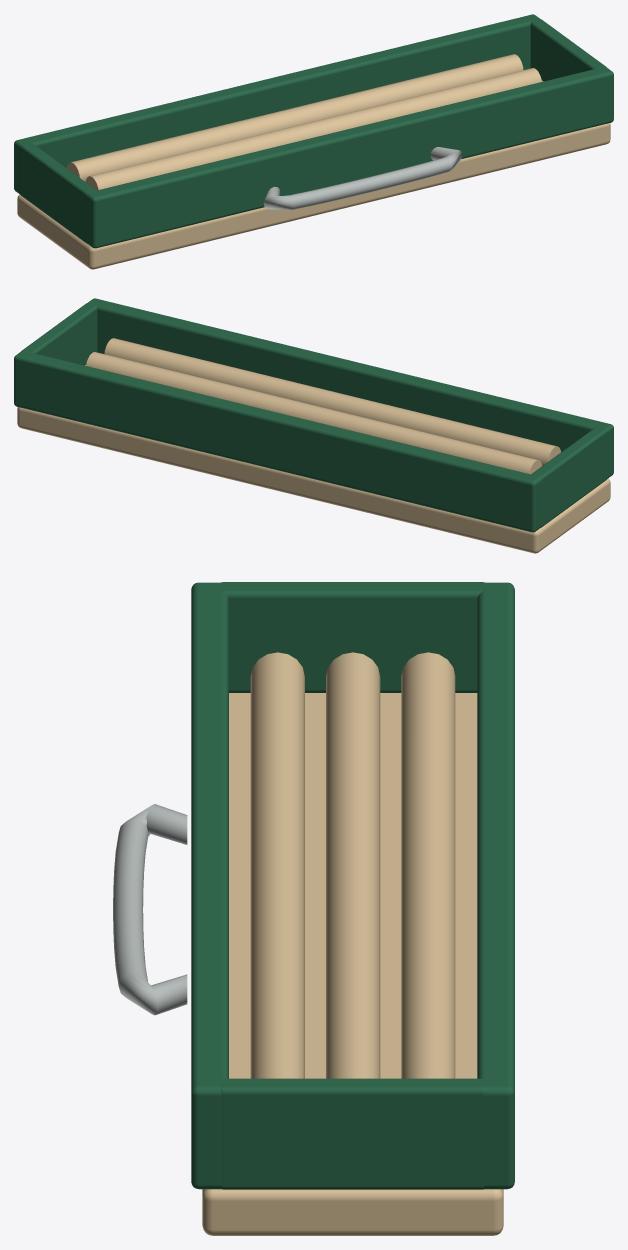
File: cricket-ground-and-pavilion-stump-carrying-case-b996a58c__31327.glb
3 renders of one model, top to bottom at view 1: azimuth 30°, elevation 25°; view 2: azimuth 150°, elevation 25°; view 3: azimuth 270°, elevation 25°, orthographic. The views are drawn at different scales.
Parts seen in each view (by area): view 1: stump-carrying-case; view 2: stump-carrying-case; view 3: stump-carrying-case.
Part boxes in pixels (left/top/right/bottom): stump-carrying-case: left=14, top=14, right=613, bottom=269; stump-carrying-case: left=14, top=298, right=613, bottom=553; stump-carrying-case: left=113, top=582, right=514, bottom=1235.
Size of the model in its own units: 0.8 by 0.11 by 0.2669.
